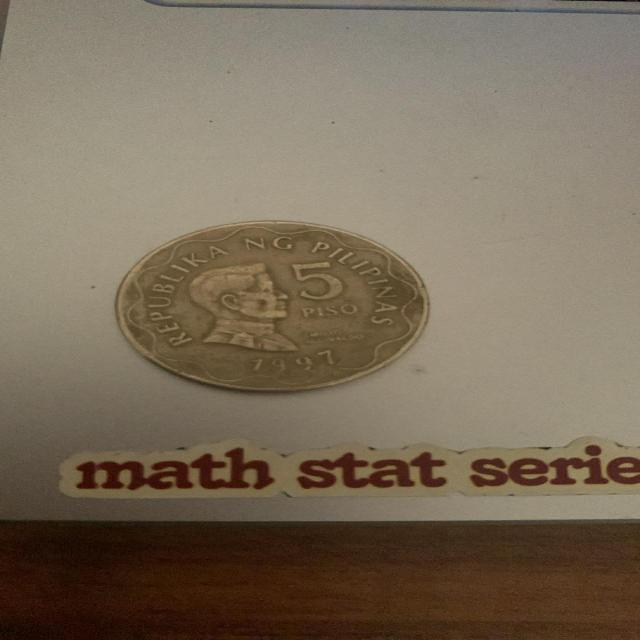5 peso-old: (112, 208, 442, 399)
